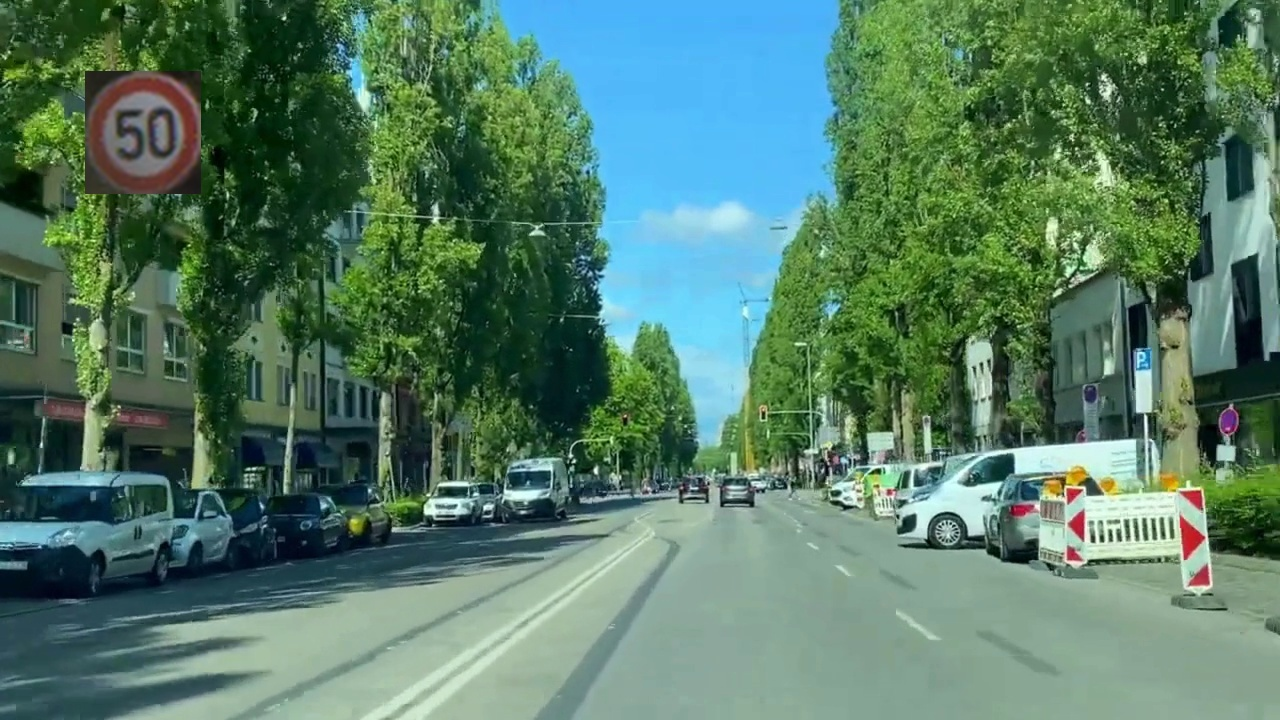Speed 50: (85, 71, 201, 194)
